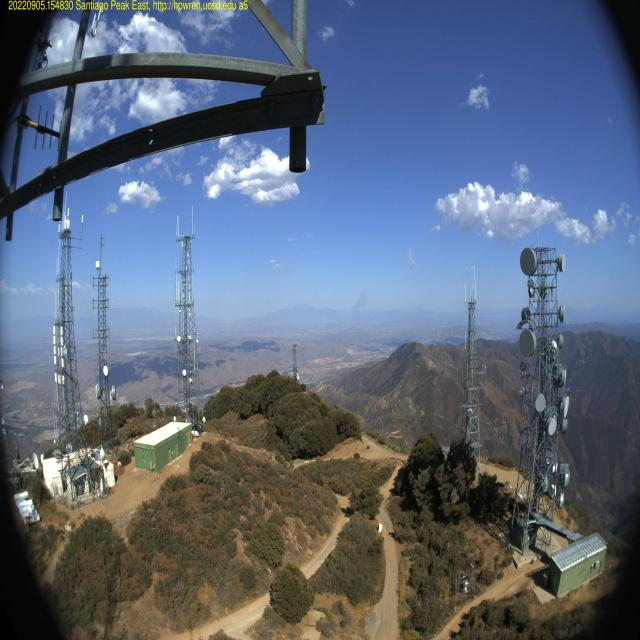smoke: (343, 288, 369, 329)
